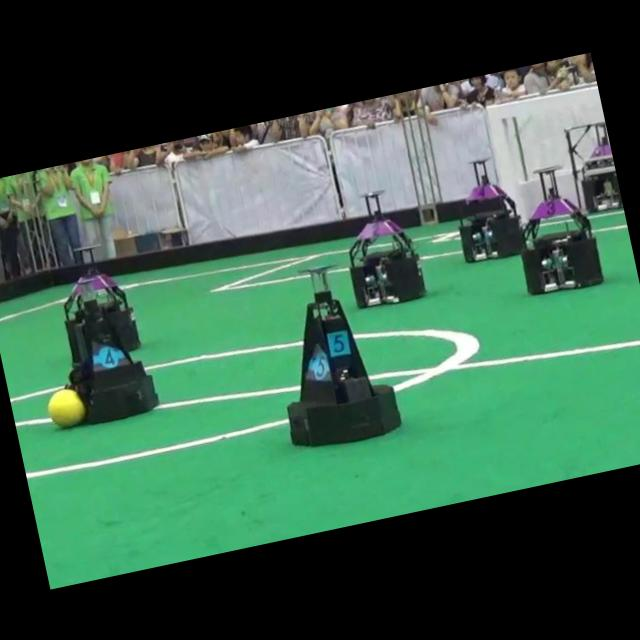ball: (47, 387, 85, 426)
goal: (486, 104, 527, 224)
robot: (286, 265, 401, 445), (69, 298, 158, 422), (520, 165, 603, 293), (64, 244, 140, 362), (349, 190, 425, 307), (459, 158, 524, 262), (565, 120, 623, 211)
